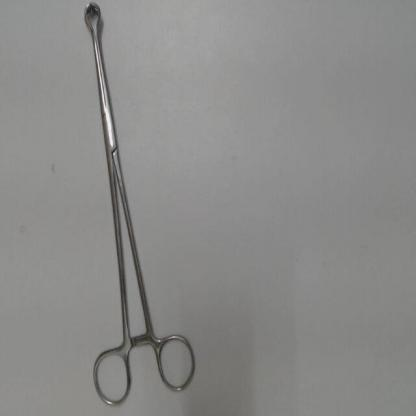8 Babcock Tissue Forceps: (80, 0, 199, 413)
